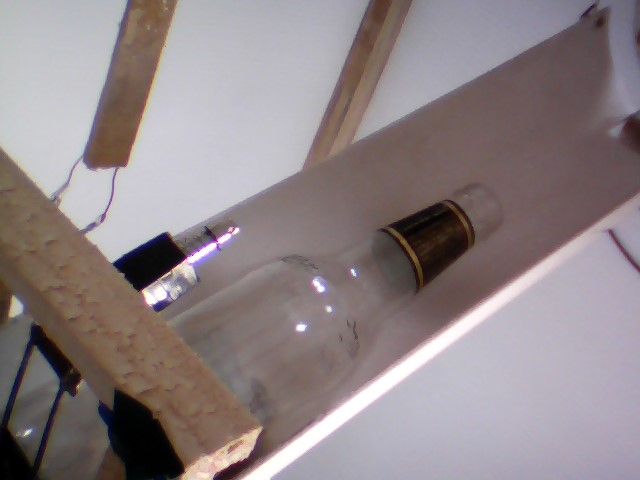vidrio: (177, 180, 518, 423)
